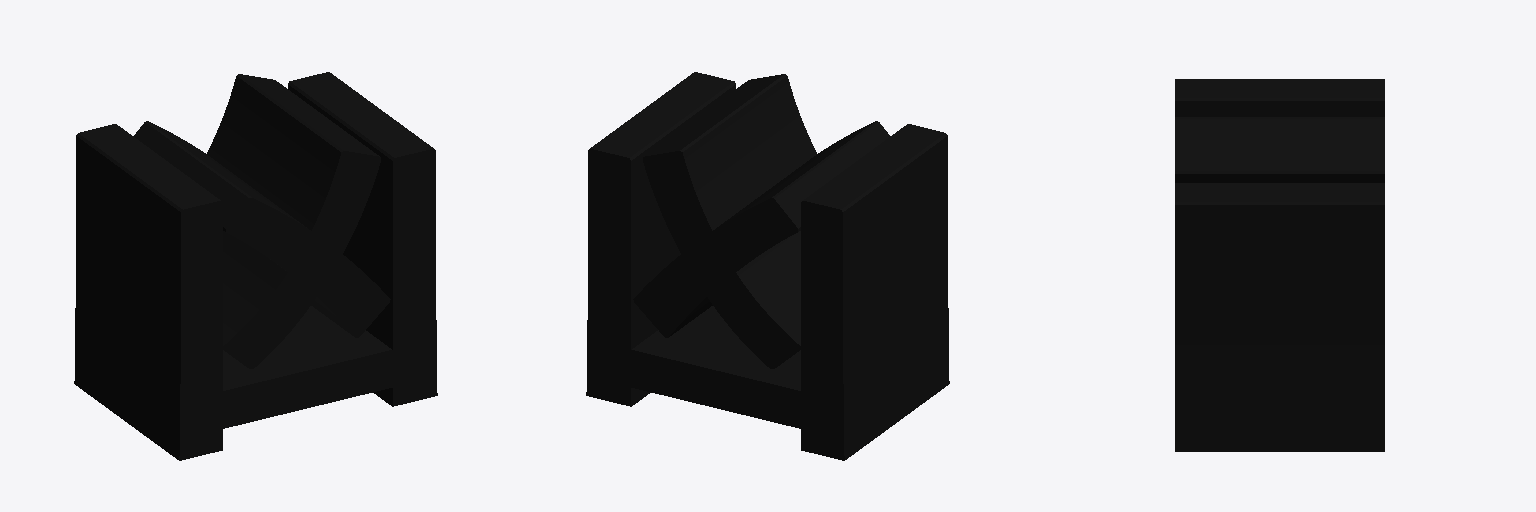
File: kyo.obj
3 renders of one model, left to right at view 1: azimuth 30°, elevation 25°; view 2: azimuth 150°, elevation 25°; view 3: azimuth 270°, elevation 25°, orthographic.
Visible parts, largest first — view 1: Curve; view 2: Curve; view 3: Curve.
Part boxes in pixels (bbox=[...]): Curve: bbox=[74, 72, 437, 460]; Curve: bbox=[586, 72, 949, 460]; Curve: bbox=[1175, 79, 1384, 451].
Size of the model in its own units: 0.1745 by 0.1746 by 0.1229.